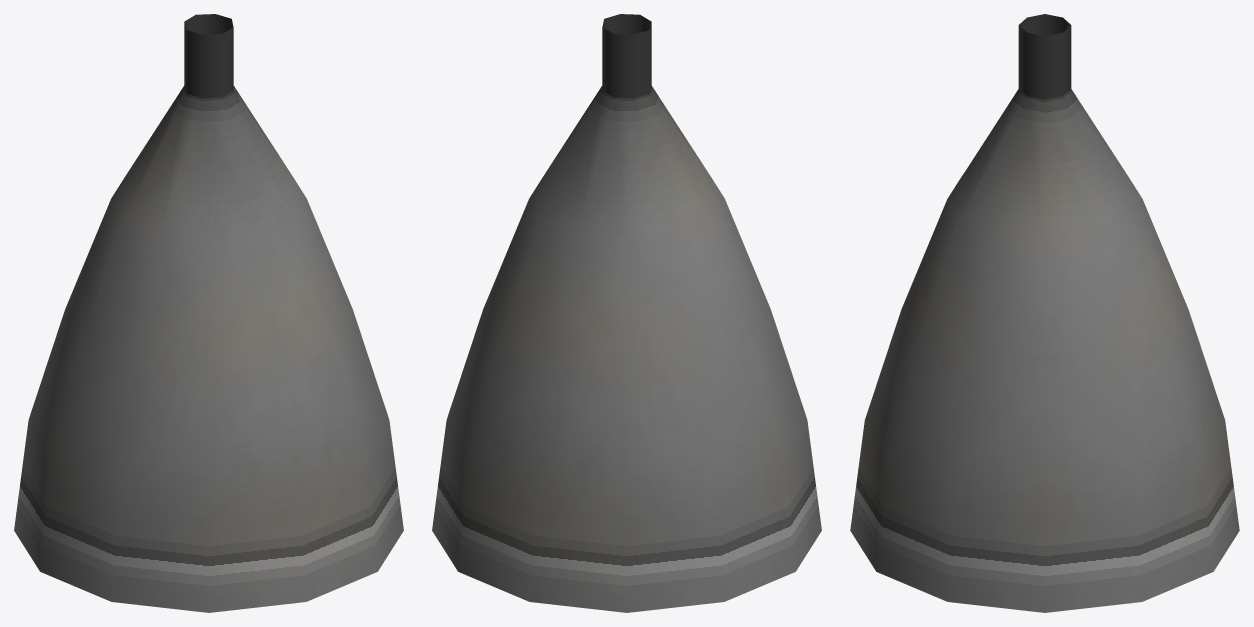
Rendered from TLV_2_Engine_1_Vernier.obj.
3 views of the same model, side by side, from view 1: azimuth 30°, elevation 25°; view 2: azimuth 150°, elevation 25°; view 3: azimuth 270°, elevation 25° (orthographic).
Visible parts, largest first — view 1: TLV_2_Engine_1_Vernier; view 2: TLV_2_Engine_1_Vernier; view 3: TLV_2_Engine_1_Vernier.
Part boxes in pixels (left/top/right/bottom): TLV_2_Engine_1_Vernier: left=14, top=14, right=403, bottom=612; TLV_2_Engine_1_Vernier: left=432, top=14, right=821, bottom=612; TLV_2_Engine_1_Vernier: left=850, top=14, right=1239, bottom=612.
Bounding box in the file's own units: 0.1388 × 0.1987 × 0.1388.
